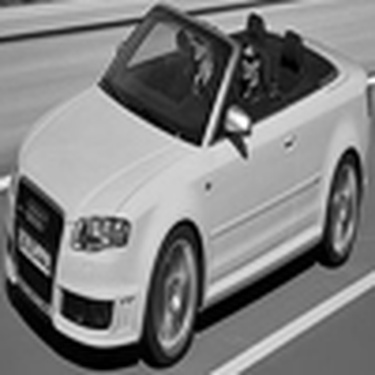car: (4, 3, 368, 367)
